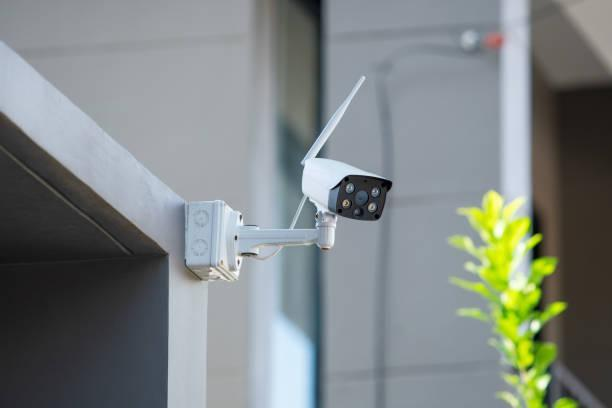camera: (284, 74, 419, 280)
